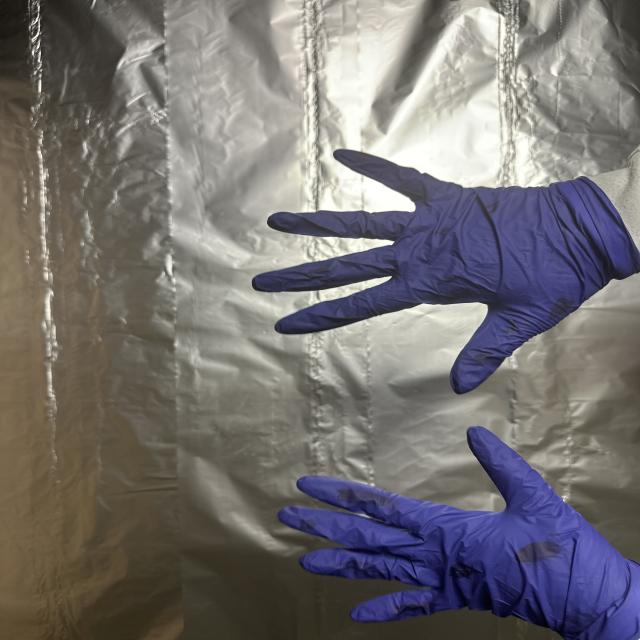gloves_contaminated: (252, 150, 640, 394), (279, 426, 640, 640)
